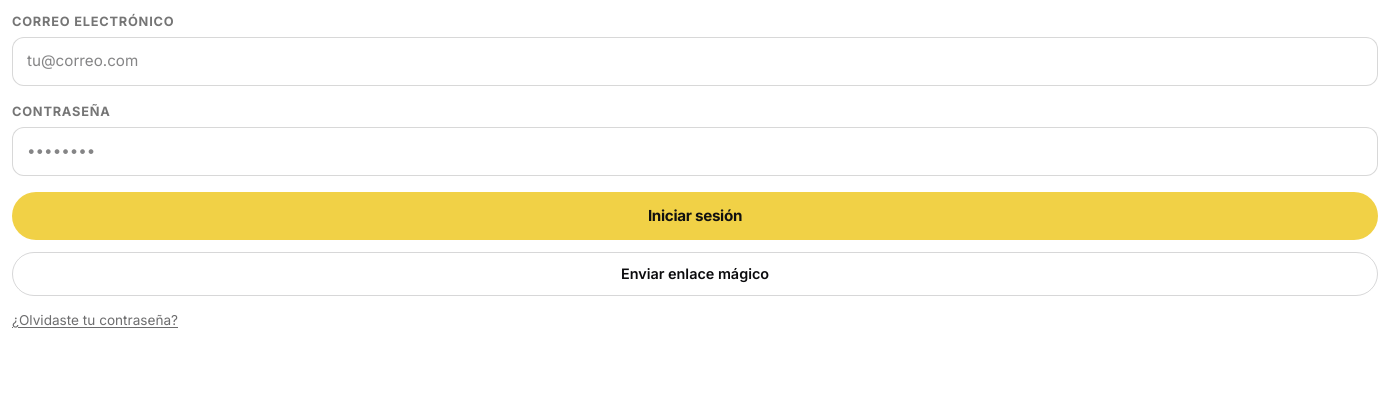
Test case: MembershipLoginPanel — password login error › shows a readable message and never the raw Supabase error
In the field with placeholder "tu@correo.com": (695, 62) [12,37,1378,86], type "cliente@example.com"
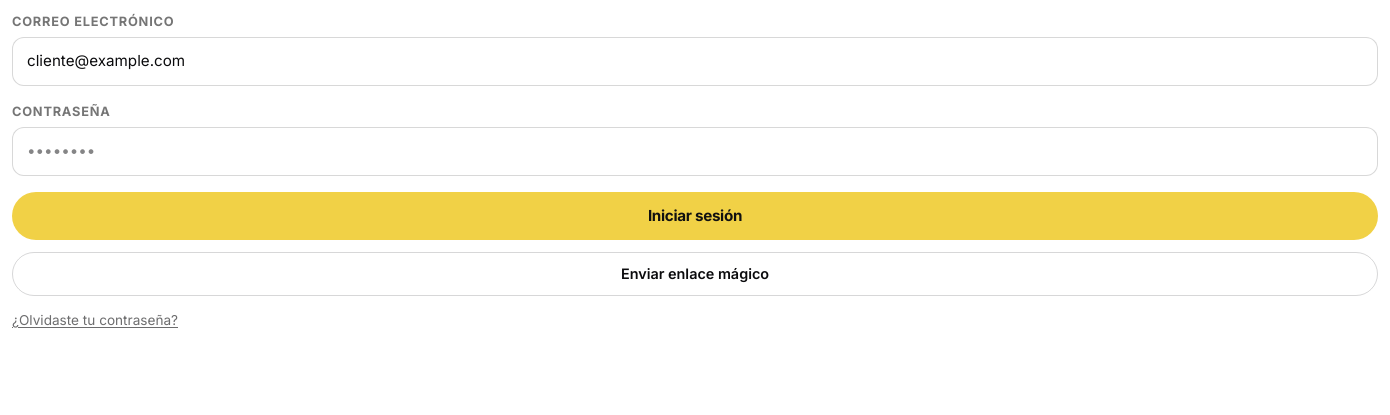
In the password field with placeholder "••••••••": (695, 152) [12,127,1378,176], type "wrong-password"
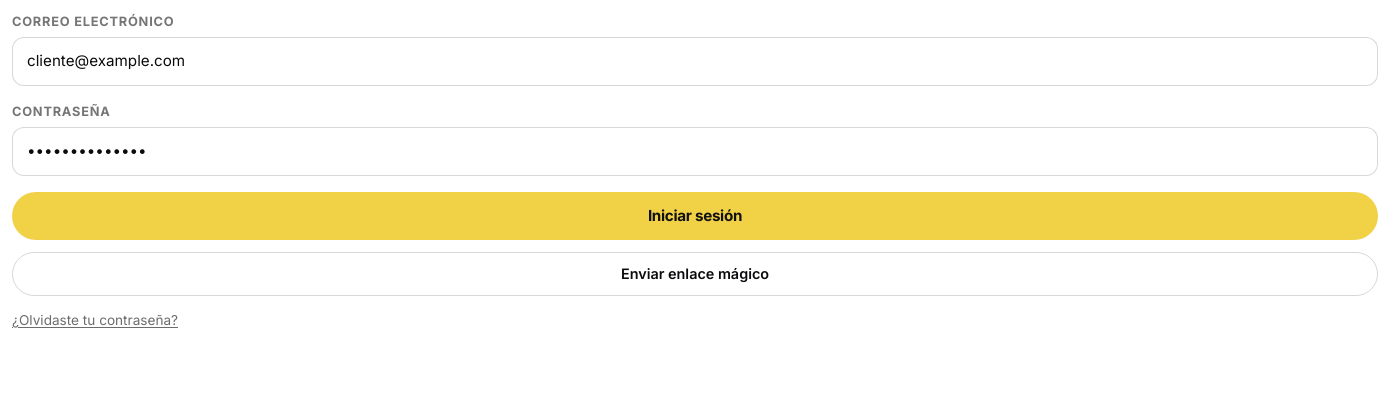
Click the button "Iniciar sesión": (695, 216) [12,192,1378,240]
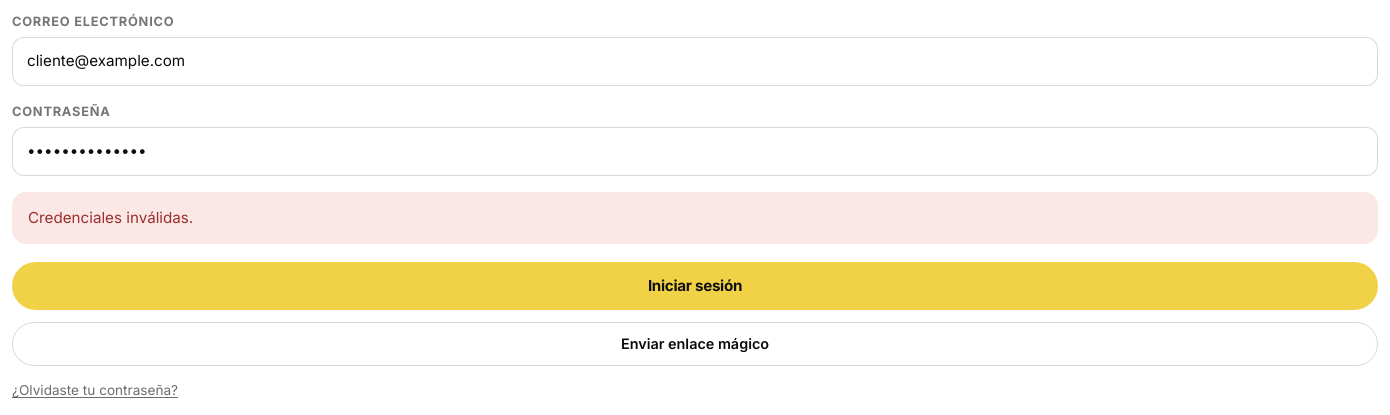
Result: the message reads "Credenciales inválidas." at [28,208,193,227]
